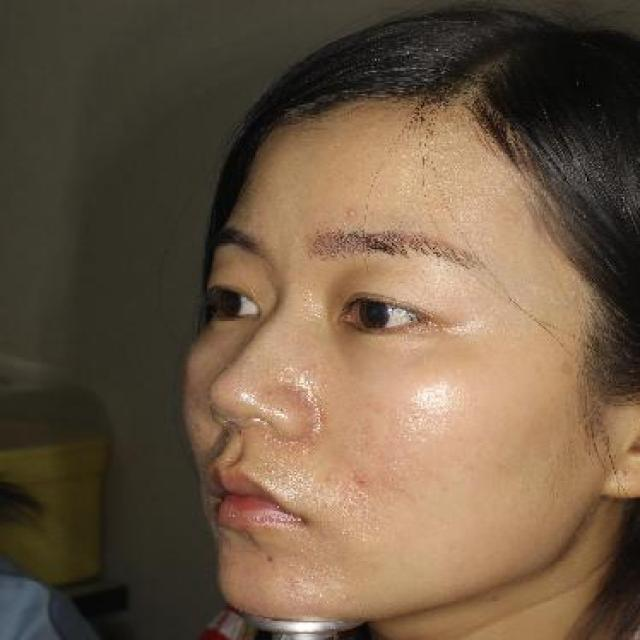blackheads: (266, 384, 306, 414)
dark spot: (346, 472, 378, 491)
papules: (337, 205, 363, 223)
whiteheads: (329, 364, 349, 382), (313, 388, 330, 404)
